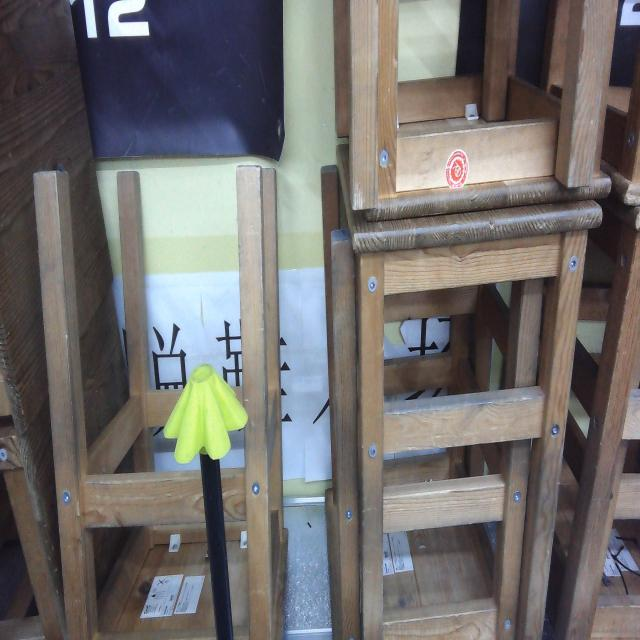Yellow-Stake-Head: (163, 363, 248, 465)
